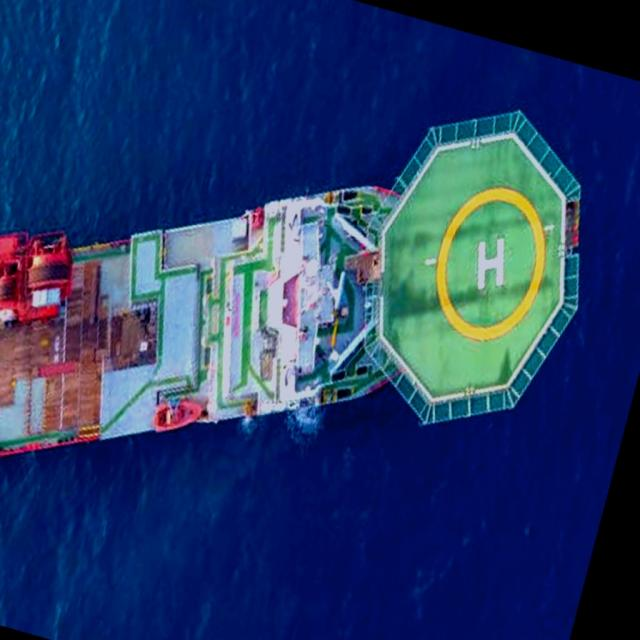helipad: (430, 182, 550, 343)
